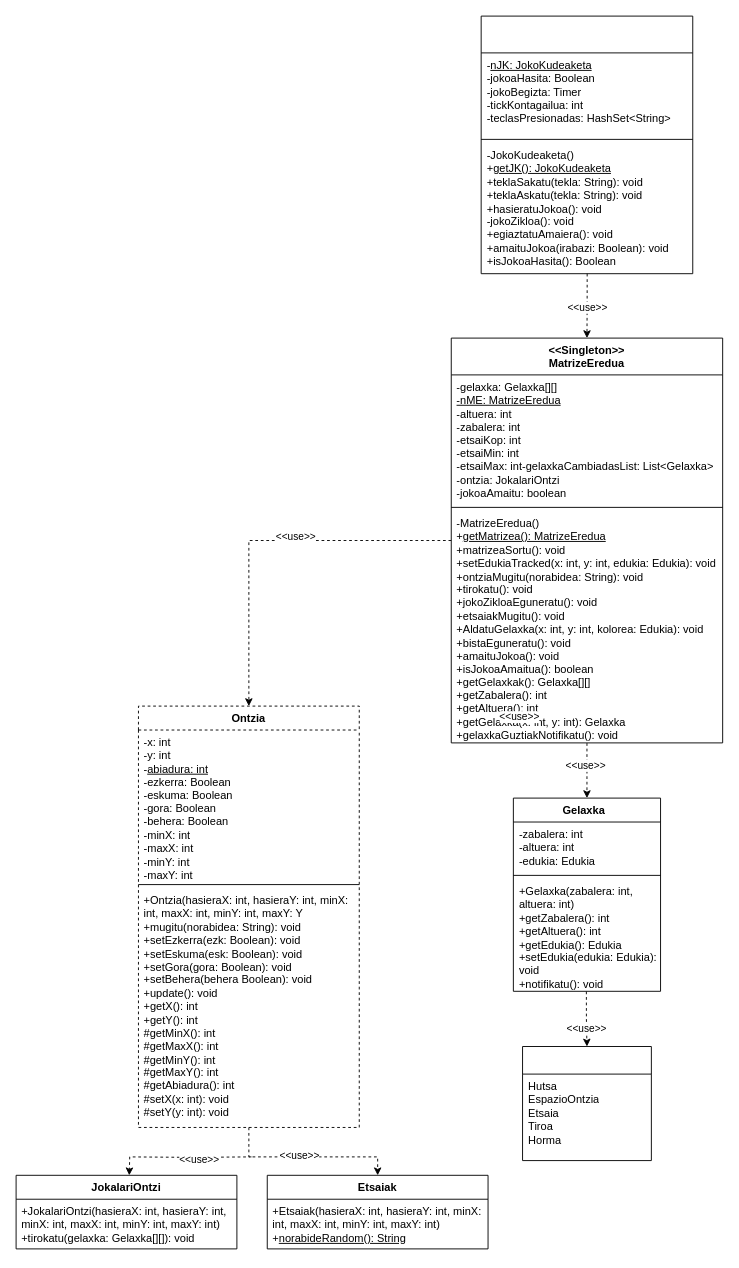
This 739x1268 diagram has some shape labels left out. The shapes that lost their labels are listed below. From the top down, each one's box as (x1, y1, x2, y2) in pixels, then its label:
(480, 15, 693, 274): <<Singleton>> JokoKudeaketa
(522, 1046, 651, 1161): <<enum>> Edukia
